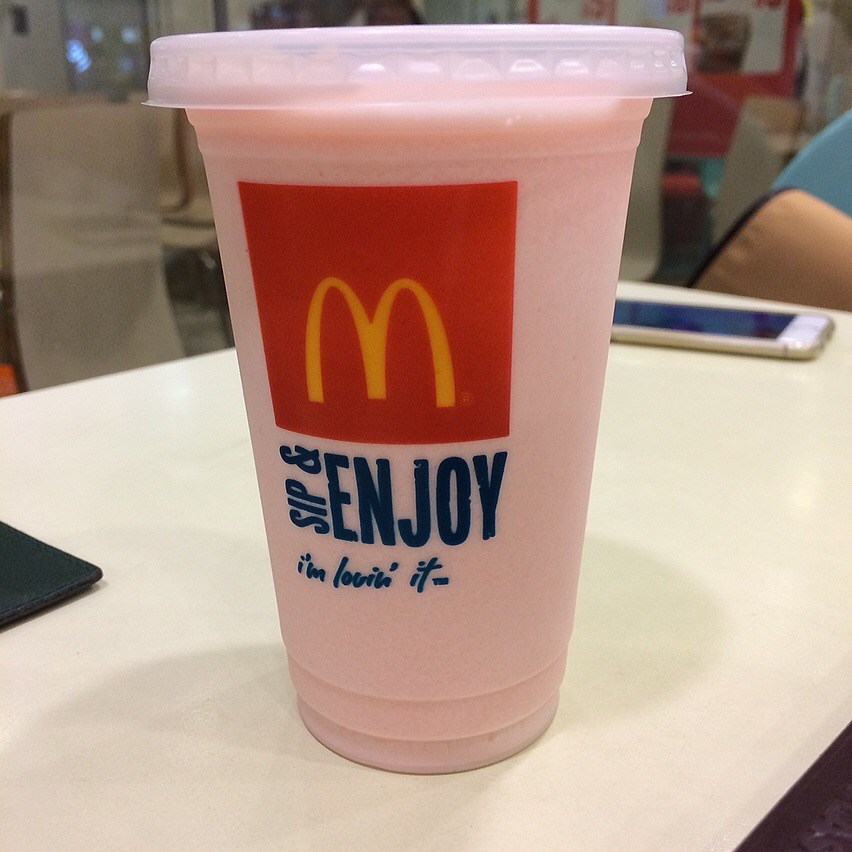mcdonalds: (293, 269, 467, 421)
